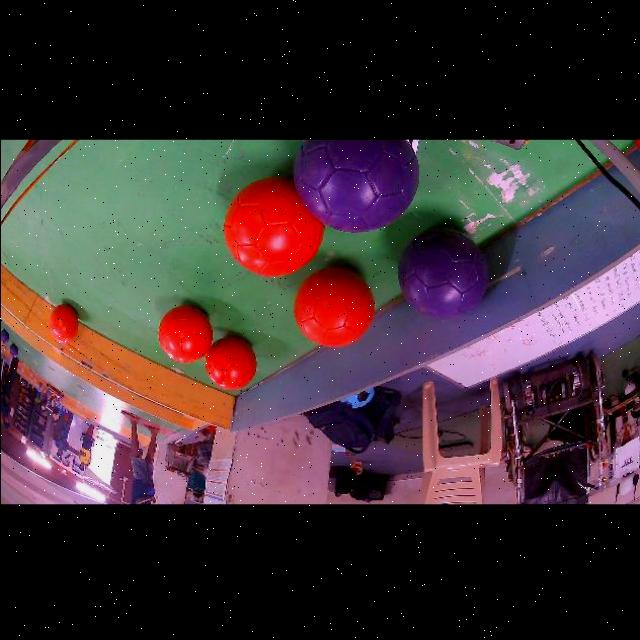P: (293, 139, 418, 231), (396, 226, 488, 320), (0, 329, 9, 344)
R: (223, 177, 324, 275), (293, 267, 374, 346), (157, 305, 212, 362), (204, 336, 256, 389), (50, 303, 77, 343)
